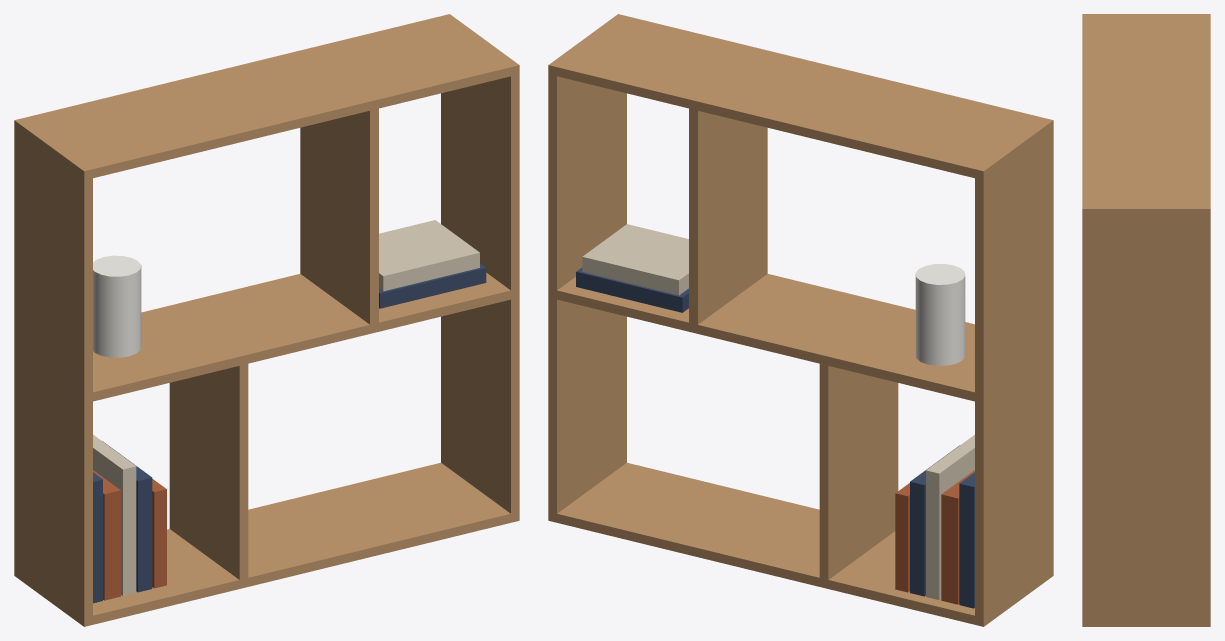
3 renders of one model, left to right at view 1: azimuth 30°, elevation 25°; view 2: azimuth 150°, elevation 25°; view 3: azimuth 270°, elevation 25°, orthographic. The views are drawn at different scales.
Parts seen in each view (by area): view 1: bottom, book-3, book-1, vase, book-2; view 2: bottom, book-3, book-1, vase, book-2; view 3: bottom.
Part boxes in pixels (left/top/right/bottom): bottom: left=14, top=14, right=519, bottom=626; book-3: left=93, top=220, right=479, bottom=595; book-1: left=93, top=263, right=486, bottom=603; vase: left=93, top=255, right=141, bottom=357; book-2: left=93, top=470, right=166, bottom=600; bottom: left=548, top=14, right=1053, bottom=626; book-3: left=582, top=224, right=974, bottom=600; book-1: left=576, top=267, right=974, bottom=608; vase: left=915, top=264, right=965, bottom=365; book-2: left=895, top=470, right=974, bottom=604; bottom: left=1082, top=14, right=1210, bottom=626.
Size of the model in its own units: 0.9 by 0.9 by 0.25.
